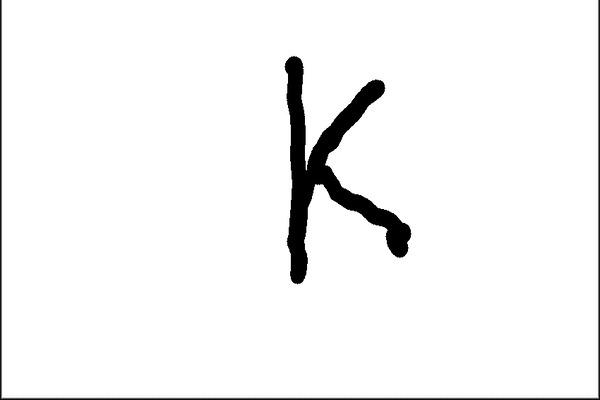K: (272, 51, 414, 288)
